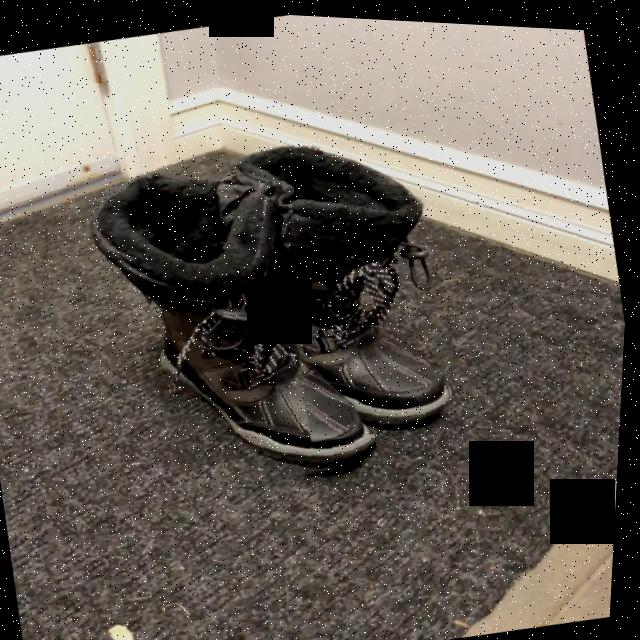shoe: (166, 311, 382, 468), (302, 328, 455, 426)
